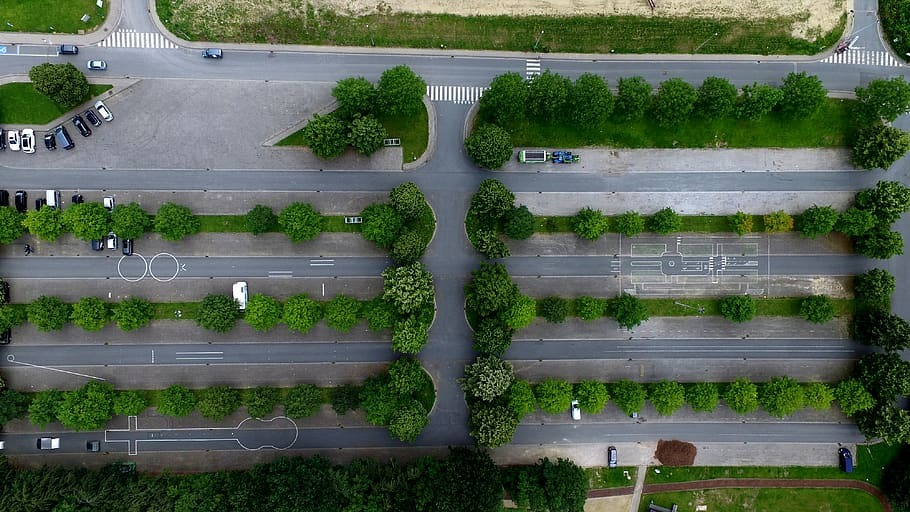TREE: (232, 452, 337, 512), (412, 446, 507, 512), (330, 451, 424, 512), (1, 464, 113, 512), (511, 457, 591, 512), (462, 260, 522, 317), (28, 61, 91, 115), (455, 353, 517, 403), (166, 469, 238, 512), (567, 69, 616, 131), (379, 261, 436, 314), (54, 380, 112, 432), (847, 124, 910, 171), (375, 64, 427, 119), (523, 68, 574, 124), (854, 74, 910, 124), (478, 71, 529, 125), (107, 469, 171, 512), (467, 400, 520, 450), (853, 180, 910, 226), (778, 70, 829, 121), (857, 398, 910, 447), (651, 77, 699, 130), (358, 371, 402, 426), (860, 353, 910, 400), (463, 124, 514, 169), (360, 202, 406, 248), (303, 113, 348, 160), (735, 81, 785, 123), (63, 200, 113, 242), (149, 201, 201, 241), (470, 178, 517, 222), (193, 293, 242, 335), (758, 375, 803, 420), (385, 399, 432, 442), (344, 111, 387, 157), (331, 75, 378, 117), (277, 202, 325, 243), (21, 204, 70, 244), (695, 75, 739, 119), (613, 73, 653, 121), (864, 312, 910, 353), (241, 292, 283, 336), (280, 292, 324, 334), (472, 319, 518, 359), (109, 294, 156, 333), (387, 314, 430, 355), (832, 378, 876, 418), (25, 294, 70, 333), (196, 384, 242, 422), (108, 203, 153, 241), (605, 292, 650, 330), (534, 376, 575, 417), (646, 380, 687, 420), (284, 382, 325, 422), (324, 291, 362, 334), (721, 376, 761, 416), (26, 388, 63, 430), (156, 383, 200, 418), (387, 358, 427, 396), (834, 206, 878, 240), (860, 226, 904, 260), (800, 203, 841, 239), (387, 182, 425, 220), (68, 296, 108, 332), (468, 228, 512, 260), (500, 292, 537, 330), (574, 378, 611, 416), (242, 385, 282, 420), (572, 206, 609, 242), (611, 380, 647, 417), (685, 381, 722, 415), (857, 268, 896, 299), (718, 294, 757, 324), (328, 382, 362, 416), (799, 294, 835, 326), (391, 230, 426, 262), (506, 204, 536, 241), (244, 205, 277, 237), (802, 381, 836, 412), (1, 207, 28, 245), (110, 391, 148, 417), (650, 206, 681, 236), (572, 295, 606, 321), (614, 210, 645, 238), (540, 295, 569, 324), (360, 306, 392, 332), (763, 210, 794, 234), (728, 210, 754, 237), (1, 305, 26, 329)
